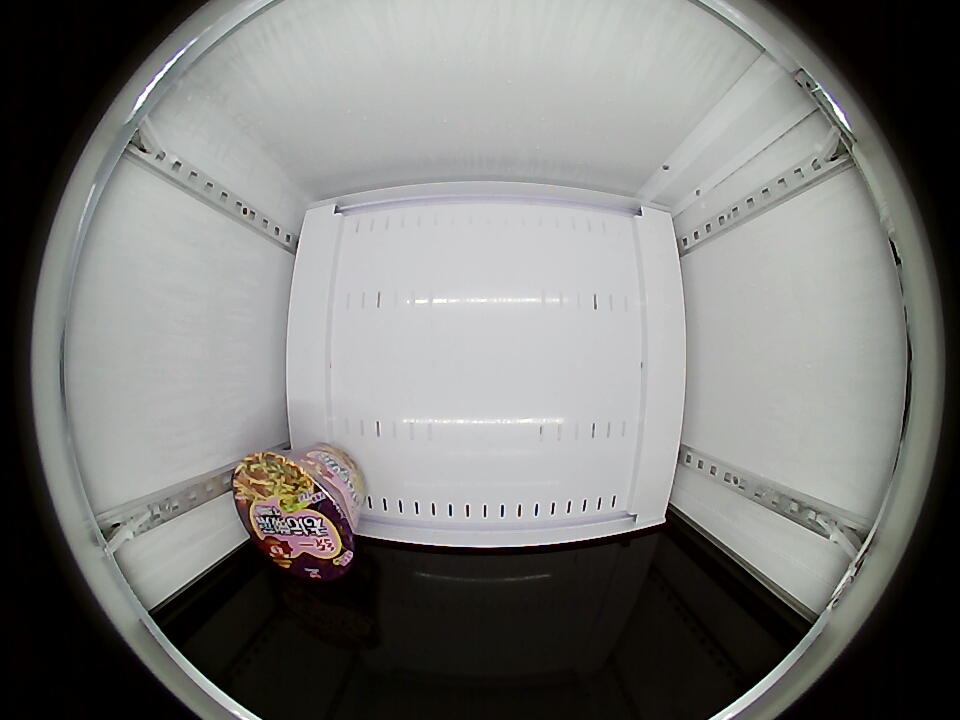laotansuancai: (233, 451, 356, 580)
